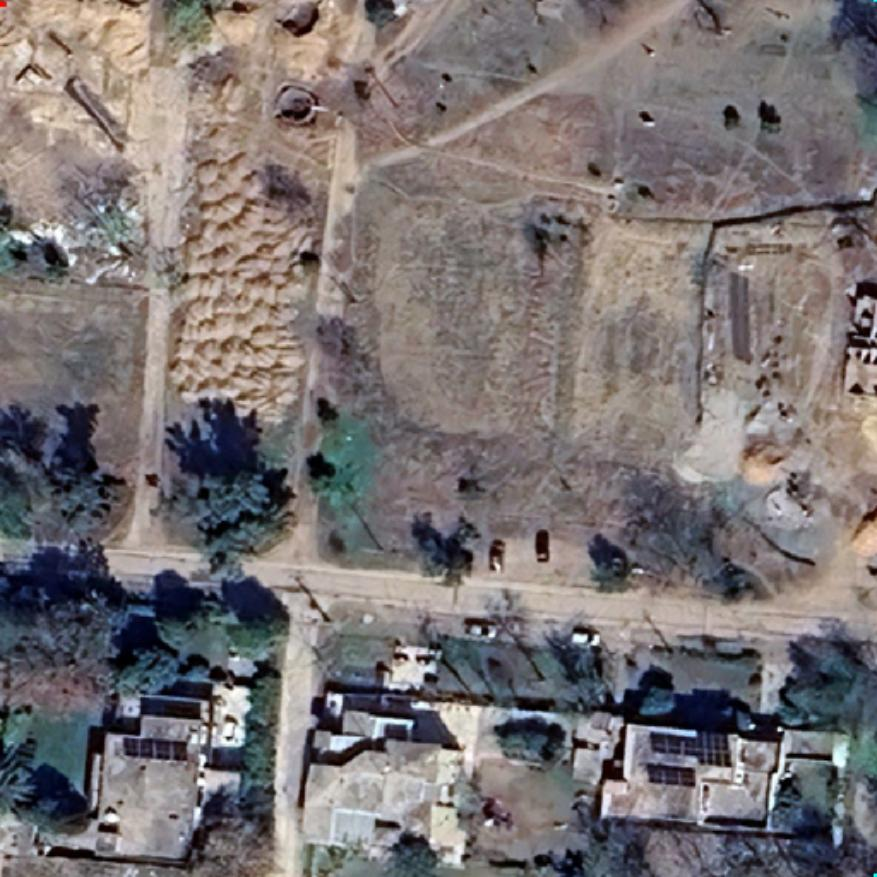Solarpanel: (644, 725, 738, 771), (117, 732, 194, 766), (640, 759, 701, 791)
